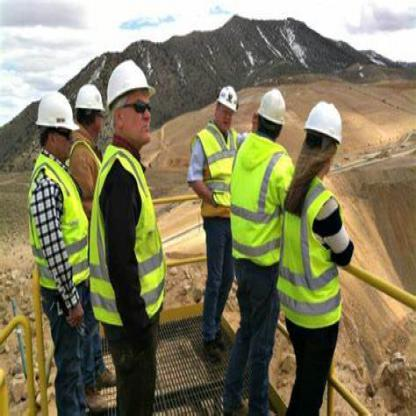person: (87, 42, 178, 415), (286, 92, 378, 415), (24, 61, 107, 414), (224, 79, 304, 415), (181, 66, 254, 361)
